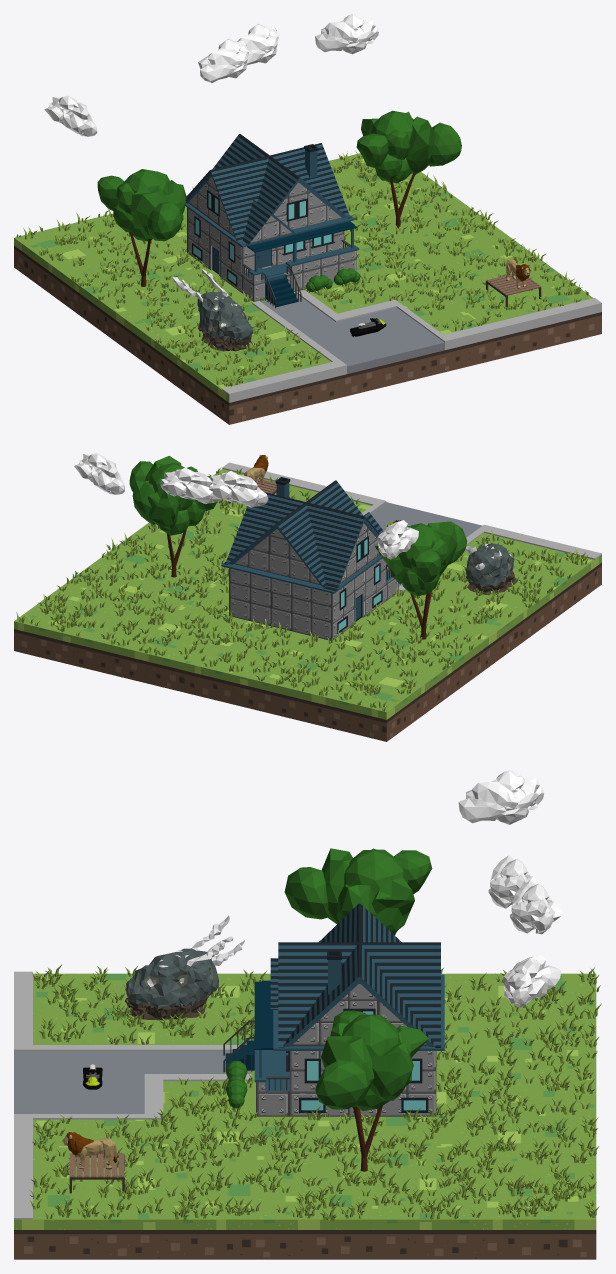
3 views of the same model, one above another, from view 1: azimuth 30°, elevation 25°; view 2: azimuth 150°, elevation 25°; view 3: azimuth 270°, elevation 25° (orthographic). The views are drawn at different scales.
Visible parts, largest first — view 1: Cube.006, Cube.078, Circle.012_Grass_0.192, Cube.007, tree, tree.001, OBJRANDOM_METEORITE, Cube.009; view 2: Cube.006, Cube.078, Circle.012_Grass_0.192, Cube.007, tree.001, tree, OBJRANDOM_METEORITE, ANIMAL_LEON; view 3: Cube.006, Circle.012_Grass_0.192, Cube.078, tree, Cube.007, tree.001, OBJRANDOM_METEORITE, Cube.009, ANIMAL_LEON.
Part boxes in pixels (x1,y1,x2,y2): Cube.006: [14, 153, 601, 424]; Cube.078: [185, 134, 359, 308]; Circle.012_Grass_0.192: [16, 150, 588, 386]; Cube.007: [44, 14, 378, 136]; tree: [356, 110, 461, 228]; tree.001: [97, 169, 186, 286]; OBJRANDOM_METEORITE: [172, 269, 252, 351]; Cube.009: [486, 274, 541, 306]; Cube.006: [14, 462, 601, 741]; Cube.078: [221, 477, 398, 640]; Circle.012_Grass_0.192: [16, 468, 588, 711]; Cube.007: [74, 453, 418, 559]; tree.001: [375, 521, 467, 639]; tree: [129, 456, 216, 577]; OBJRANDOM_METEORITE: [465, 543, 516, 594]; ANIMAL_LEON: [244, 455, 268, 484]; Cube.006: [14, 971, 596, 1259]; Circle.012_Grass_0.192: [29, 964, 601, 1220]; Cube.078: [223, 903, 444, 1116]; tree: [315, 1010, 428, 1171]; Cube.007: [458, 770, 561, 1007]; tree.001: [284, 848, 432, 935]; OBJRANDOM_METEORITE: [124, 915, 244, 1020]; Cube.009: [69, 1153, 124, 1193]; ANIMAL_LEON: [62, 1131, 117, 1169].
Size of the model in its own units: 4071 by 2126 by 4040.
Materials: 30 (6 with a texture image).
